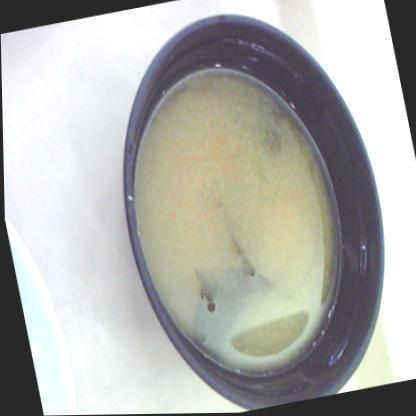miso soup: (101, 34, 384, 397)
